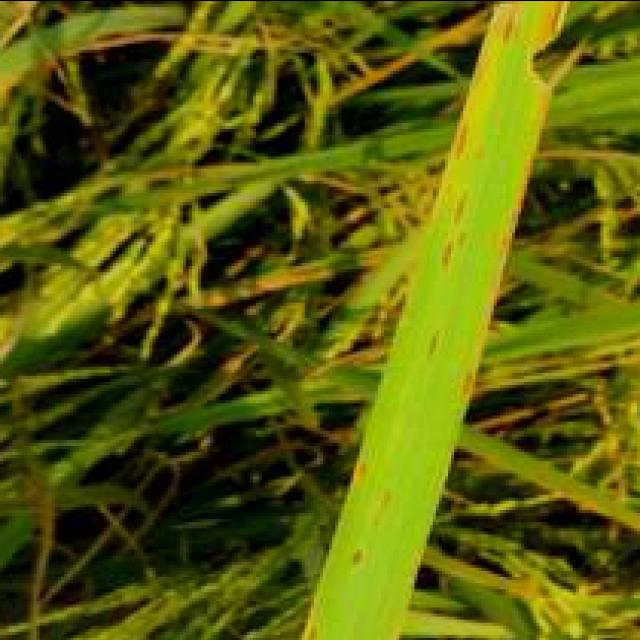Brown_Spot: (442, 188, 488, 274), (454, 106, 488, 162), (500, 0, 530, 40), (426, 314, 448, 363), (347, 536, 375, 570), (353, 448, 378, 484), (302, 609, 330, 640), (460, 366, 484, 400)
